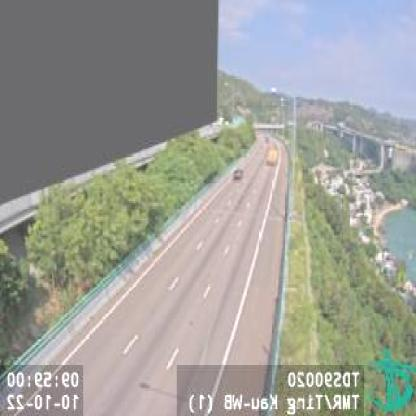Car: (231, 166, 243, 179)
